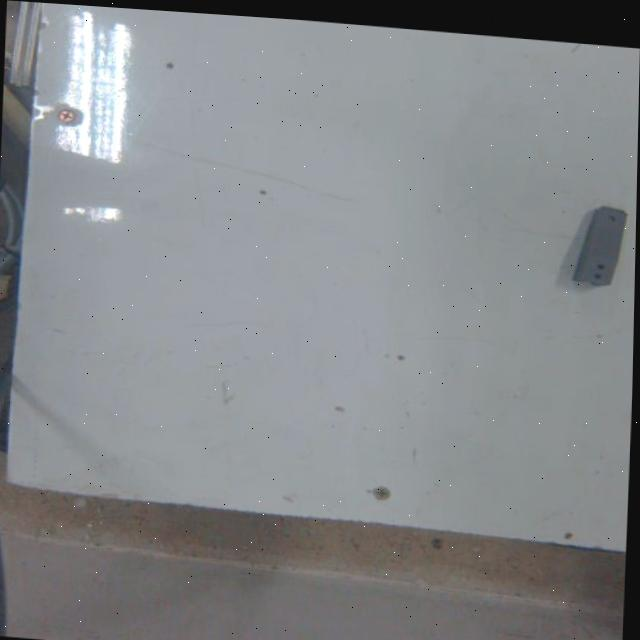grey: (569, 203, 634, 290)
head: (601, 213, 617, 225)
